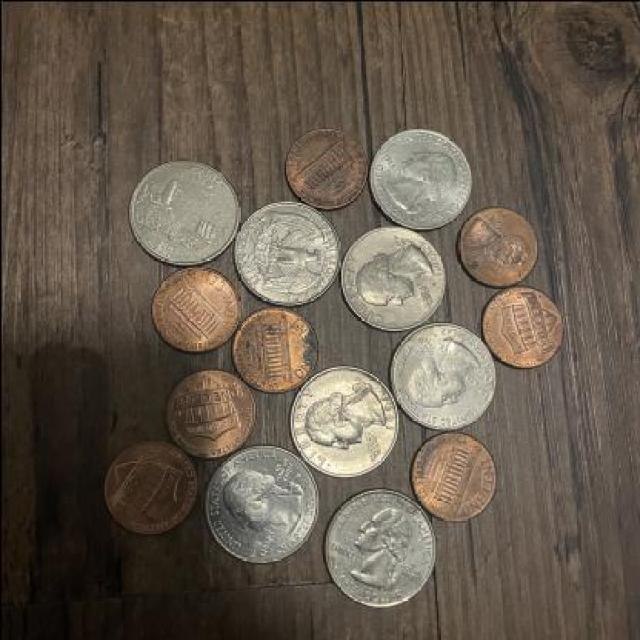Penny: (100, 432, 196, 534), (167, 358, 256, 466), (408, 428, 497, 526), (149, 264, 242, 350), (231, 303, 320, 392), (452, 205, 545, 288), (477, 284, 563, 368), (283, 126, 369, 208)
Quarter: (204, 440, 320, 563), (322, 484, 436, 608), (291, 364, 398, 482), (230, 197, 342, 308), (389, 318, 497, 432), (126, 155, 240, 263), (340, 223, 446, 334), (366, 125, 474, 226)
